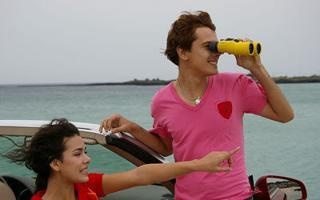person without safety: (125, 11, 295, 159)
